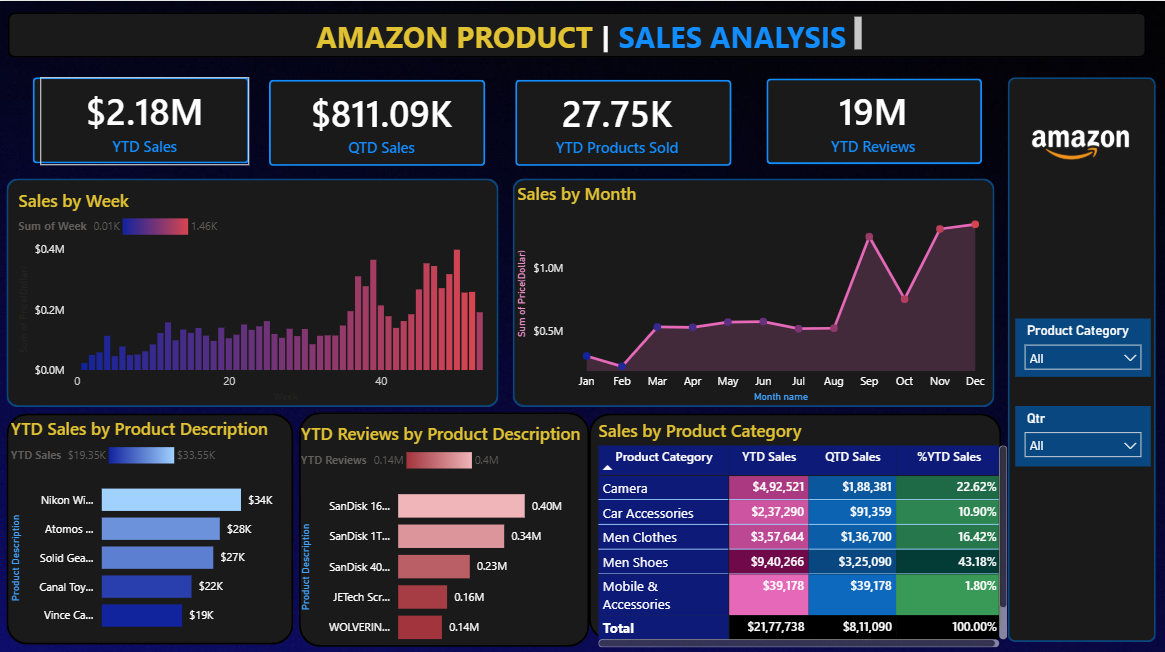

Layout of this report page (visuals, bound fields, positions):
{"tool":"powerbi","page":{"name":"Page 1","canvas":[1280,720],"ordinal":0},"visuals":[{"type":"shape","box":[9.6,12.3,1250,50],"z":0},{"type":"textbox","box":[343.1,12.3,609.3,49.4],"z":1000},{"type":"shape","box":[37.1,84.6,237.4,94.7],"z":1000,"group":"g1"},{"type":"shape","box":[1107.5,83.8,162.5,620],"z":2000},{"type":"group","id":"g1","title":"Group 1","box":[37.1,84.1,1042.5,96.9],"z":3000},{"type":"card","fields":{"Values":["Amazon_Data.YTD Sales"]},"box":[45.7,84.1,229.5,95.5],"z":3000,"group":"g1"},{"type":"shape","box":[8.4,194.2,540.2,251],"z":4000},{"type":"shape","box":[296.9,86.3,237.4,94.7],"z":5000,"group":"g1"},{"type":"shape","box":[647.5,452.5,452.5,248.8],"z":5000},{"type":"shape","box":[566.3,86.3,237.4,94.7],"z":6000,"group":"g1"},{"type":"shape","box":[564.3,194.2,528.8,251],"z":6000},{"type":"card","fields":{"Values":["Amazon_Data.QTD Sales"]},"box":[306.5,87,228.1,92.7],"z":7000,"group":"g1"},{"type":"areaChart","title":"Sales by Month ","fields":{"Category":["Date Table.Month name"],"Y":["Sum(Amazon_Data.Price(Dollar))"]},"box":[564.3,199.1,528.4,246.3],"z":7000},{"type":"card","fields":{"Values":["Amazon_Data.YTD Products Sold"]},"box":[567.3,87,223.8,92.7],"z":8000,"group":"g1"},{"type":"pivotTable","title":"Sales by Product Category","fields":{"Rows":["Amazon_Data.Product Category"],"Values":["Amazon_Data.YTD Sales1","Amazon_Data.QTD Sales","Amazon_Data.YTD Sales"]},"box":[652.5,458.8,458.8,256.2],"z":8000},{"type":"shape","box":[843,85.5,236.6,94.1],"z":9000,"group":"g1"},{"type":"shape","box":[328.8,451.2,318.8,257.5],"z":9000},{"type":"card","fields":{"Values":["Amazon_Data.YTD Reviews"]},"box":[855.3,84.1,209.5,95.5],"z":10000,"group":"g1"},{"type":"shape","box":[8.8,452.5,315,253.8],"z":10000},{"type":"columnChart","title":"Sales by Week","fields":{"Category":["Date Table.Week"],"Y":["Sum(Amazon_Data.Price(Dollar))"]},"box":[16.6,206.1,540.5,239.3],"z":11000},{"type":"clusteredBarChart","fields":{"Category":["Amazon_Data.Product Description"],"Y":["Amazon_Data.YTD Sales"]},"box":[8.8,457.5,297.5,248.8],"z":12000},{"type":"clusteredBarChart","fields":{"Category":["Amazon_Data.Product Description"],"Y":["Amazon_Data.YTD Reviews"]},"box":[326.2,462.5,323.8,257.5],"z":13000},{"type":"slicer","fields":{"Values":["Amazon_Data.Product Category"]},"box":[1115,348.8,148.8,63.8],"z":14000},{"type":"slicer","fields":{"Values":["Date Table.Qtr"]},"box":[1116.2,445,148.8,66.2],"z":15000},{"type":"image","box":[1115,100,143.8,115],"z":16000}]}

Visuals, with their boxes in screenshot pixels (x1, y1, x2, y2), scaled from the page's 1280x720 canvas onto the 1165x652 screenshot:
shape: pyautogui.locateOnScreen(9, 11, 1146, 56)
textbox: pyautogui.locateOnScreen(312, 11, 867, 56)
shape: pyautogui.locateOnScreen(34, 77, 250, 162)
shape: pyautogui.locateOnScreen(1008, 76, 1156, 637)
"Group 1" group: pyautogui.locateOnScreen(34, 76, 983, 164)
card - Amazon_Data.YTD Sales: pyautogui.locateOnScreen(42, 76, 250, 163)
shape: pyautogui.locateOnScreen(8, 176, 499, 403)
shape: pyautogui.locateOnScreen(270, 78, 486, 164)
shape: pyautogui.locateOnScreen(589, 410, 1001, 635)
shape: pyautogui.locateOnScreen(515, 78, 731, 164)
shape: pyautogui.locateOnScreen(514, 176, 995, 403)
card - Amazon_Data.QTD Sales: pyautogui.locateOnScreen(279, 79, 487, 163)
"Sales by Month " areaChart: pyautogui.locateOnScreen(514, 180, 995, 403)
card - Amazon_Data.YTD Products Sold: pyautogui.locateOnScreen(516, 79, 720, 163)
"Sales by Product Category" pivotTable: pyautogui.locateOnScreen(594, 415, 1011, 647)
shape: pyautogui.locateOnScreen(767, 77, 983, 163)
shape: pyautogui.locateOnScreen(299, 409, 589, 642)
card - Amazon_Data.YTD Reviews: pyautogui.locateOnScreen(778, 76, 969, 163)
shape: pyautogui.locateOnScreen(8, 410, 295, 640)
"Sales by Week" columnChart: pyautogui.locateOnScreen(15, 187, 507, 403)
clusteredBarChart - Amazon_Data.Product Description x Amazon_Data.YTD Sales: pyautogui.locateOnScreen(8, 414, 279, 640)
clusteredBarChart - Amazon_Data.Product Description x Amazon_Data.YTD Reviews: pyautogui.locateOnScreen(297, 419, 592, 651)
slicer - Amazon_Data.Product Category: pyautogui.locateOnScreen(1015, 316, 1150, 374)
slicer - Date Table.Qtr: pyautogui.locateOnScreen(1016, 403, 1151, 463)
image: pyautogui.locateOnScreen(1015, 91, 1146, 195)
